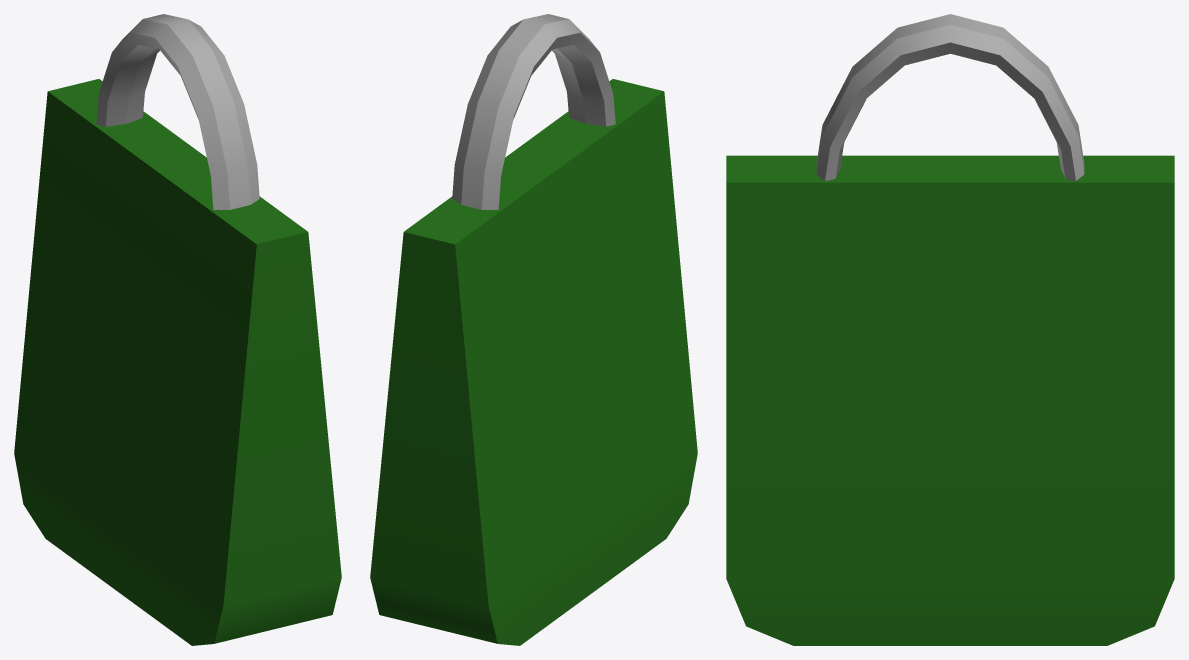
Rendered from Character_Bag.fbx.
The picture shows the model from 3 angles, left to right: view 1: azimuth 30°, elevation 25°; view 2: azimuth 150°, elevation 25°; view 3: azimuth 270°, elevation 25°; orthographic projection. The views are drawn at different scales.
Visible parts, largest first — view 1: Character_Bag; view 2: Character_Bag; view 3: Character_Bag.
Part boxes in pixels (x1,y1,x2,y2): Character_Bag: (14, 14, 341, 645); Character_Bag: (370, 14, 697, 645); Character_Bag: (726, 14, 1174, 645).
Size of the model in its own units: 0.5551 by 2.49 by 1.7.
